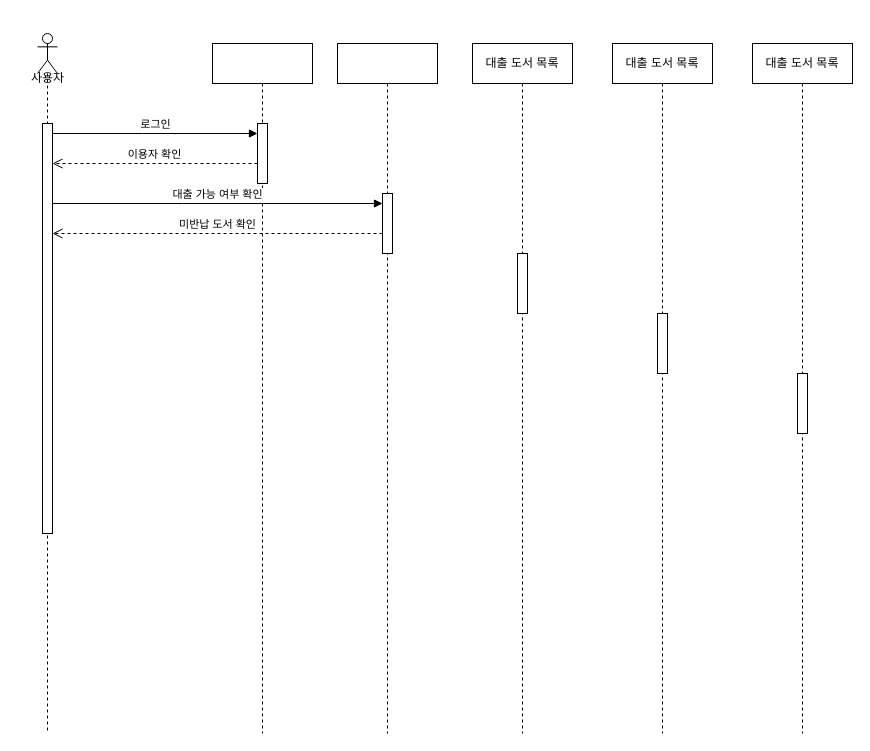
This 870x751 diagram has some shape labels left out. The shapes that lost their labels are listed below. From the top down, each one's box as (x1, y1, x2, y2) in pixels, then its label:
(212, 42, 312, 734): 도서관리 시스템 로그인
(336, 42, 438, 734): 연체자 목록
